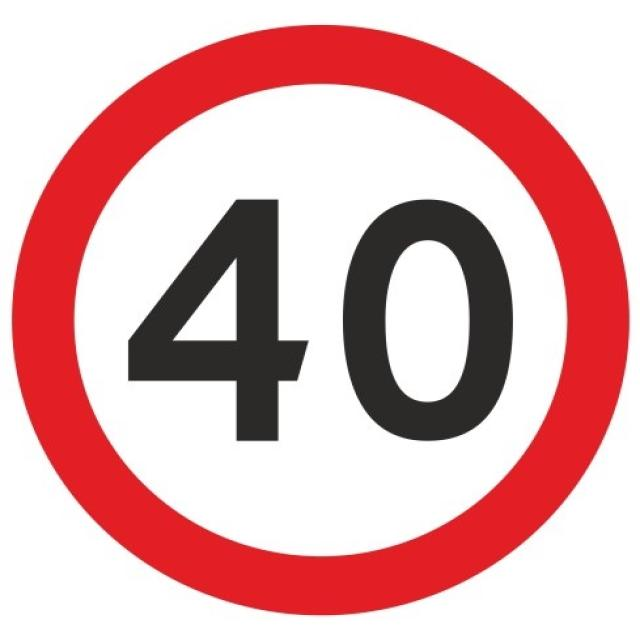Speed Limit -40-: (125, 189, 521, 447)
